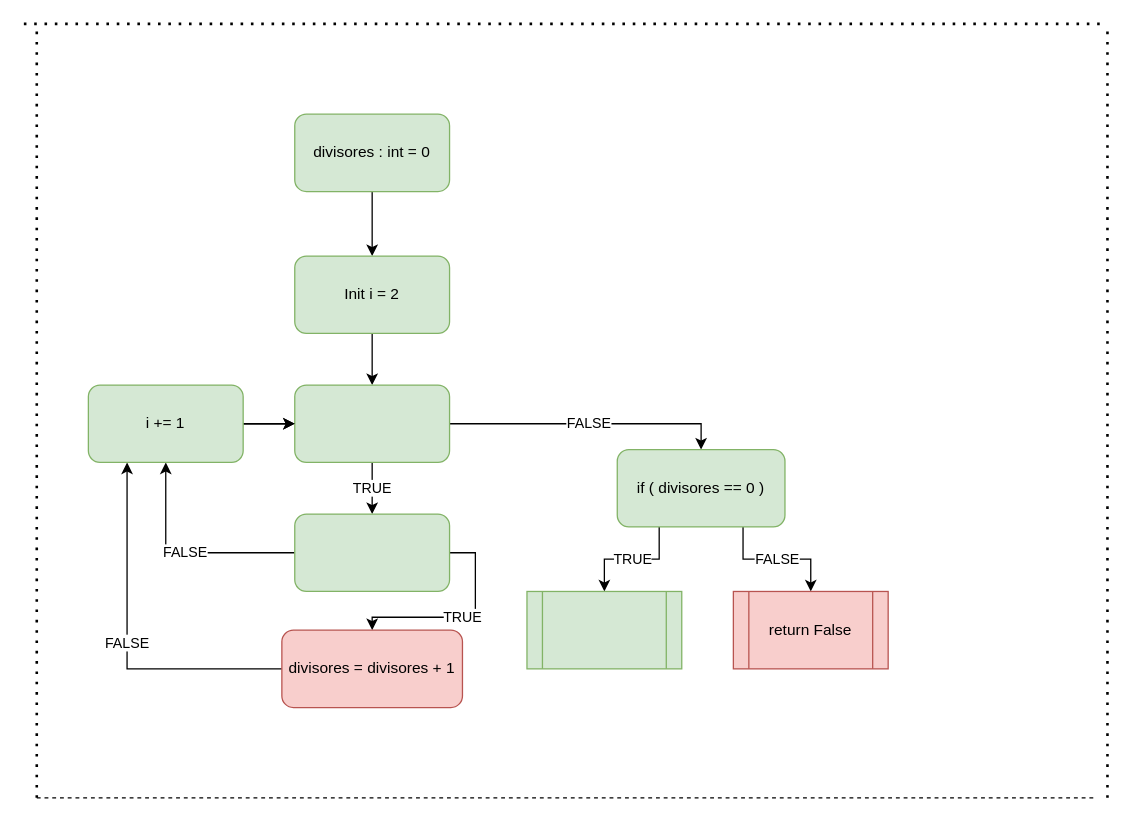
This 1131x822 diagram has some shape labels left out. Here are the shapes that lost their labels. From the top down, the centre of each, then its label:
At (x=371, y=423): "if (i < n)".
At (x=371, y=552): "if ( n % i == 0 )".
At (x=604, y=629): "return True".
